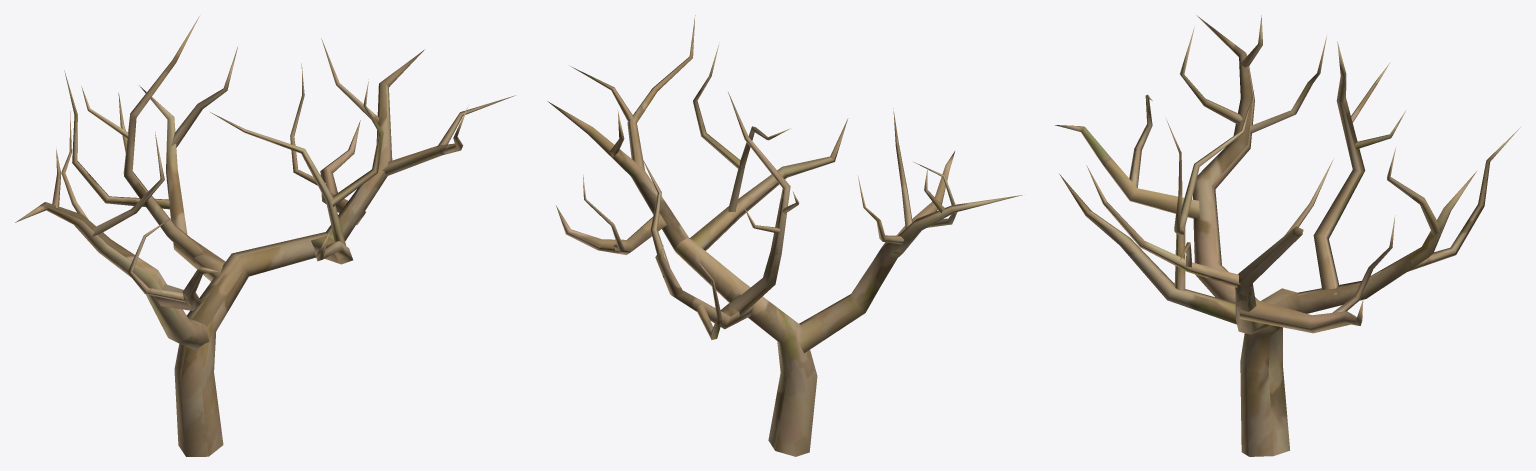
The model's file is P_DesertTwigRoots01.obj.
3 views of the same model, side by side, from view 1: azimuth 30°, elevation 25°; view 2: azimuth 150°, elevation 25°; view 3: azimuth 270°, elevation 25° (orthographic). The views are drawn at different scales.
Size of the model in its own units: 1.83 by 1.42 by 1.39.
